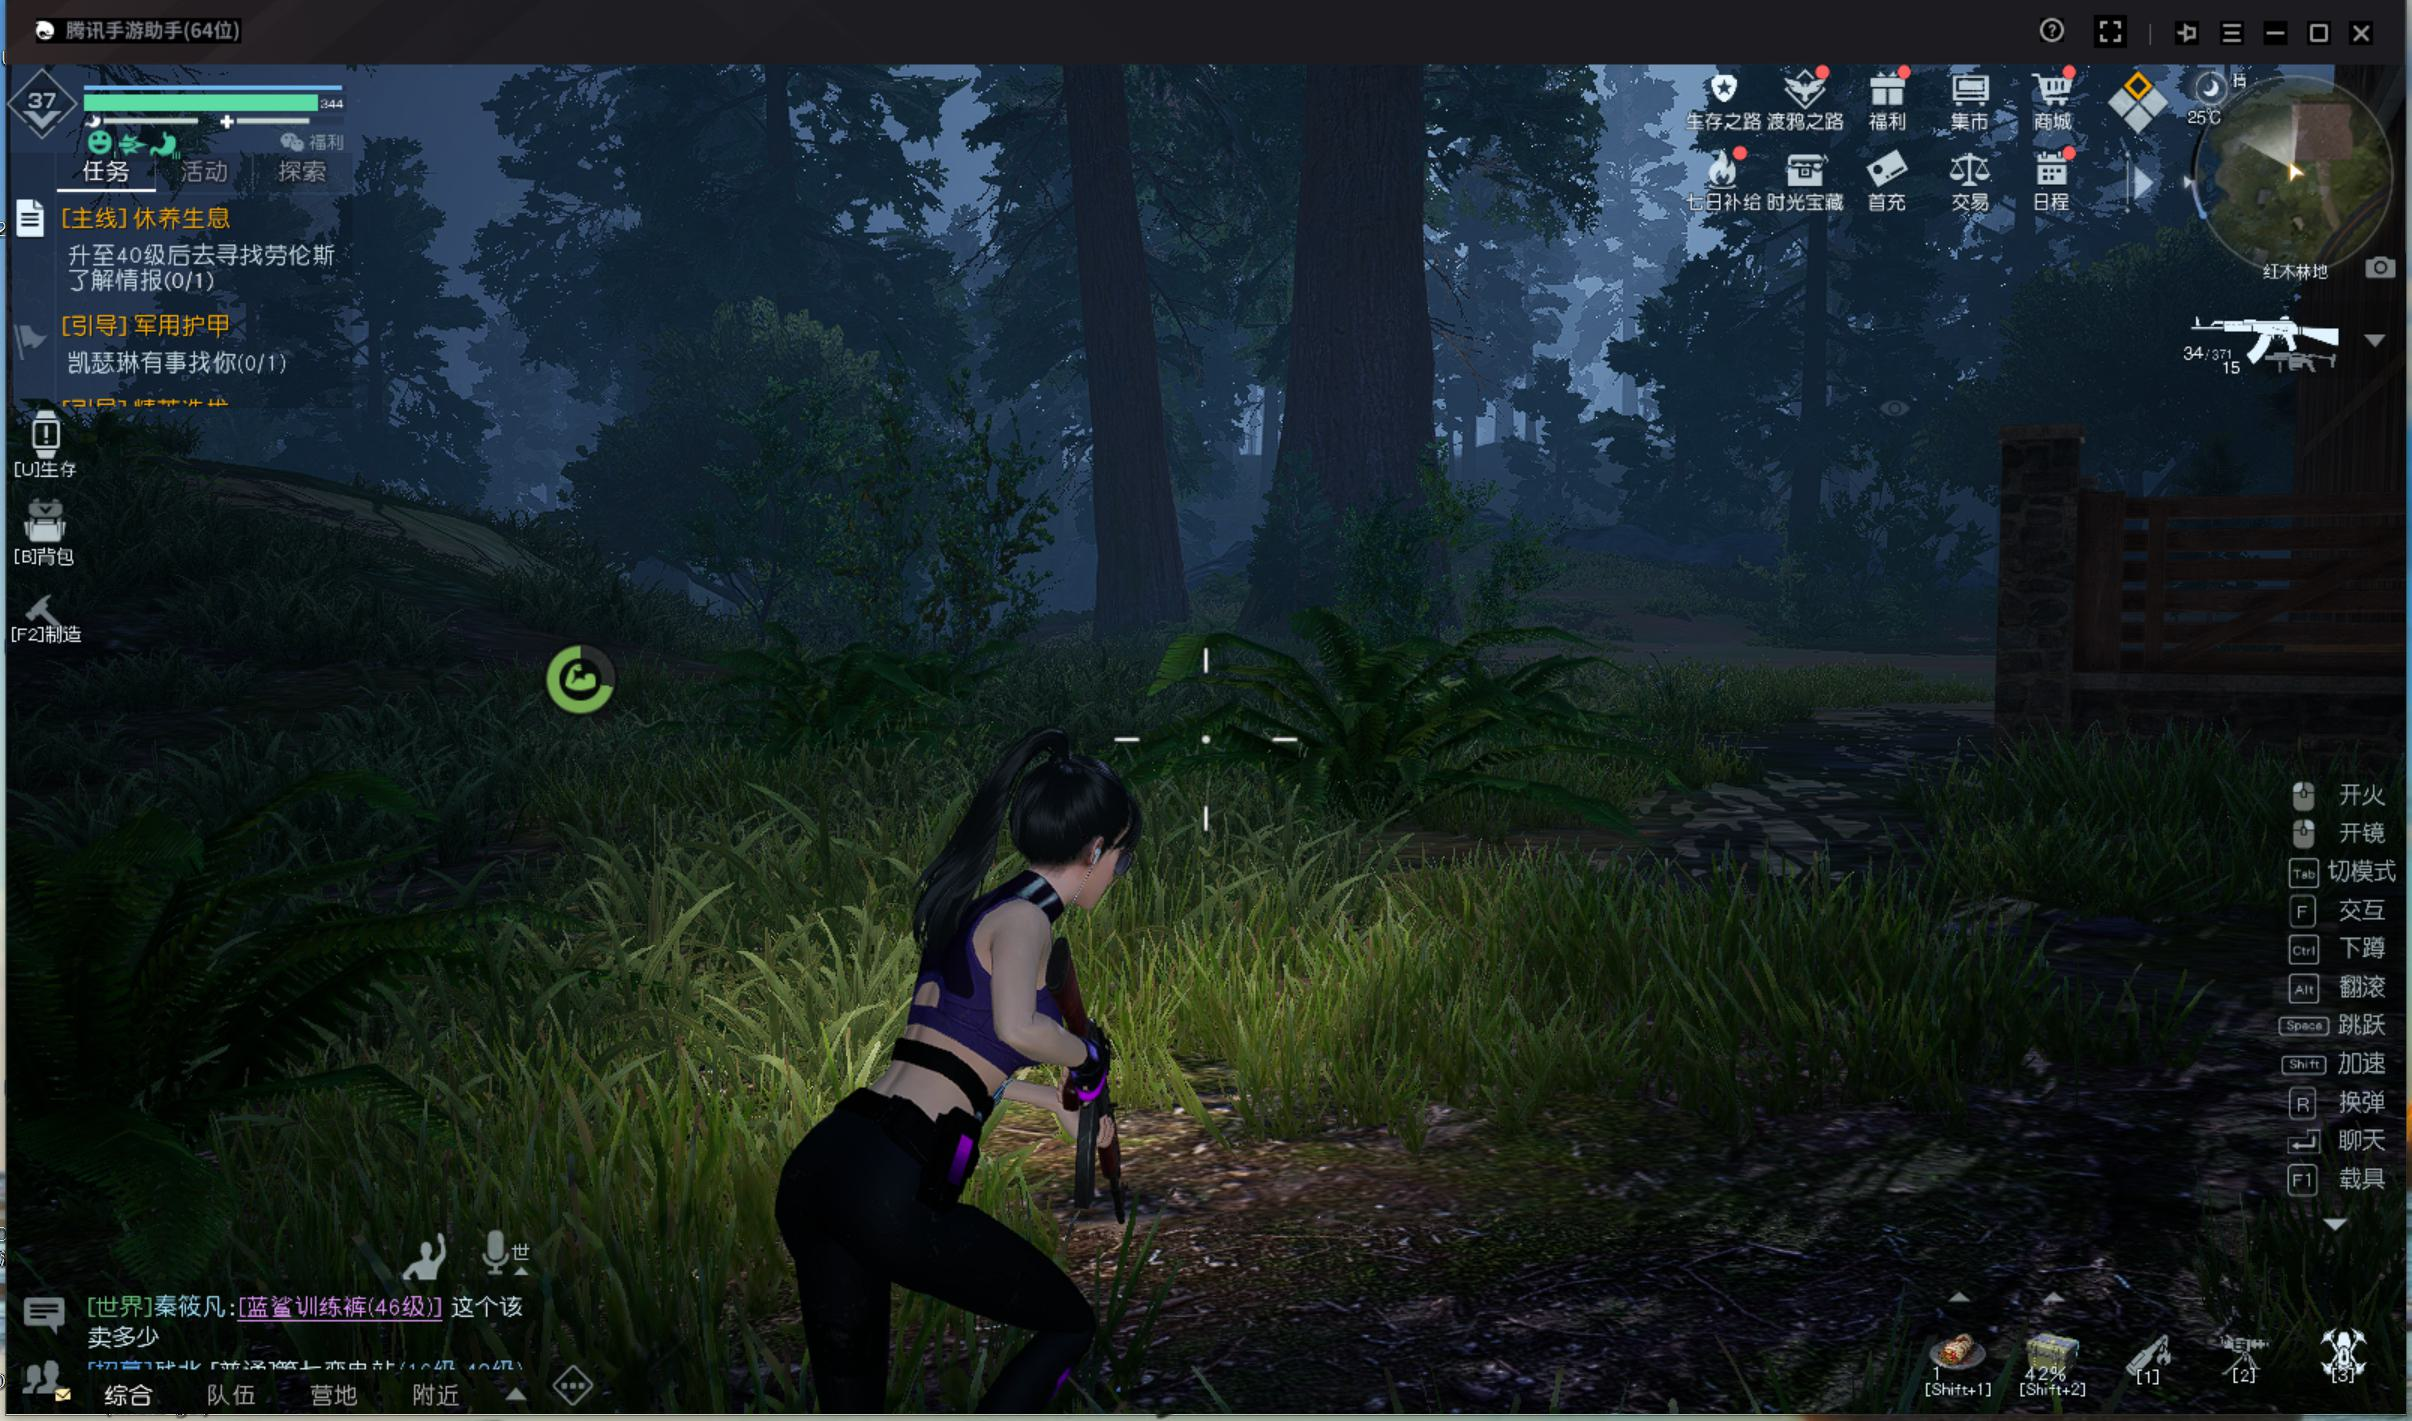tree: (1264, 156, 1472, 668), (1049, 157, 1189, 721)
